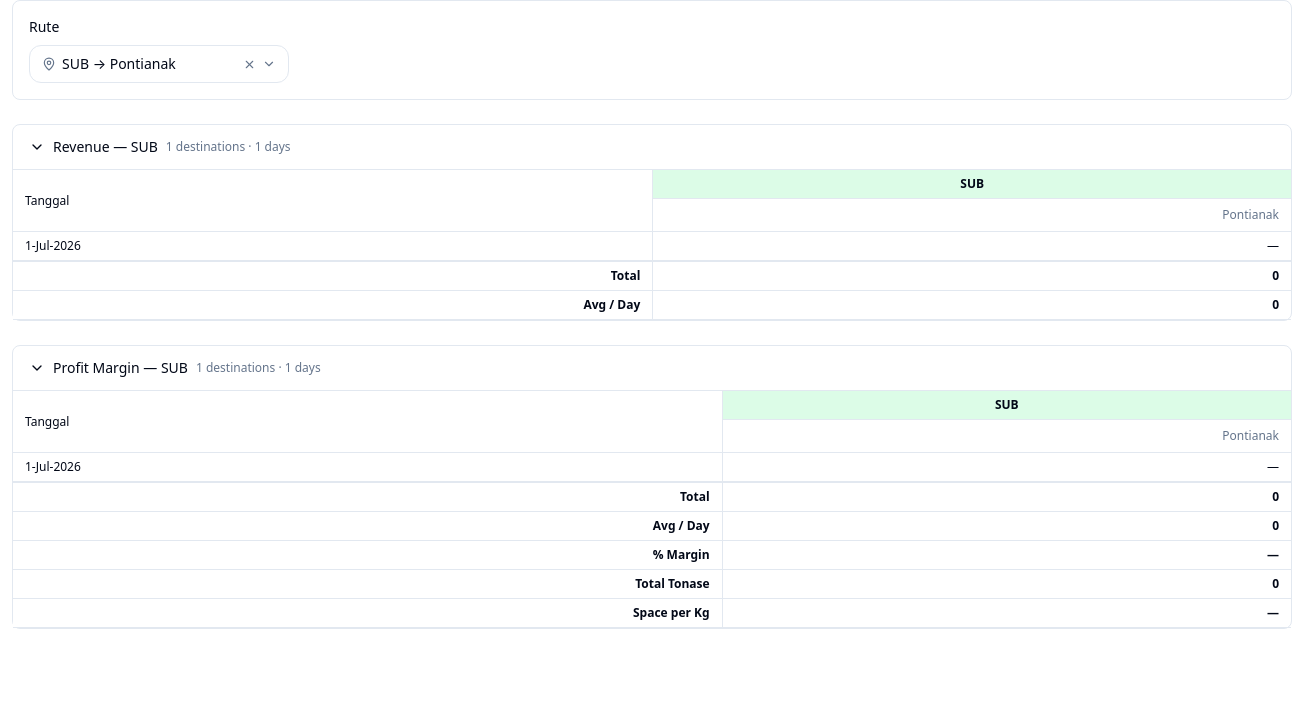
Test: PnlDailyMatrixView › ticks the routes already picked
This screenshot has width=1304, height=720.
Click the button "SUB → Pontianak" at (159, 64), box [29, 45, 289, 83]
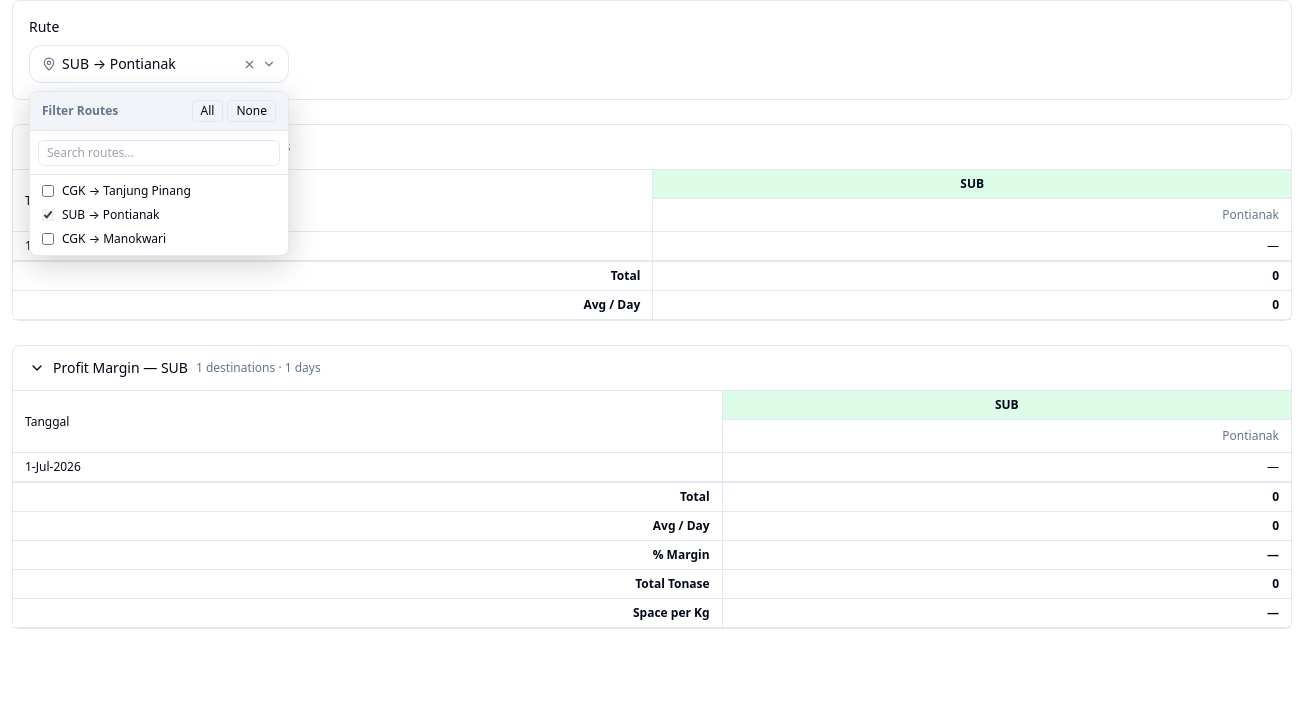
Now the checkbox labelled "SUB → Pontianak" is checked, box [42, 209, 54, 221]
Now the checkbox labelled "CGK → Tanjung Pinang" is not checked, box [42, 185, 54, 197]
